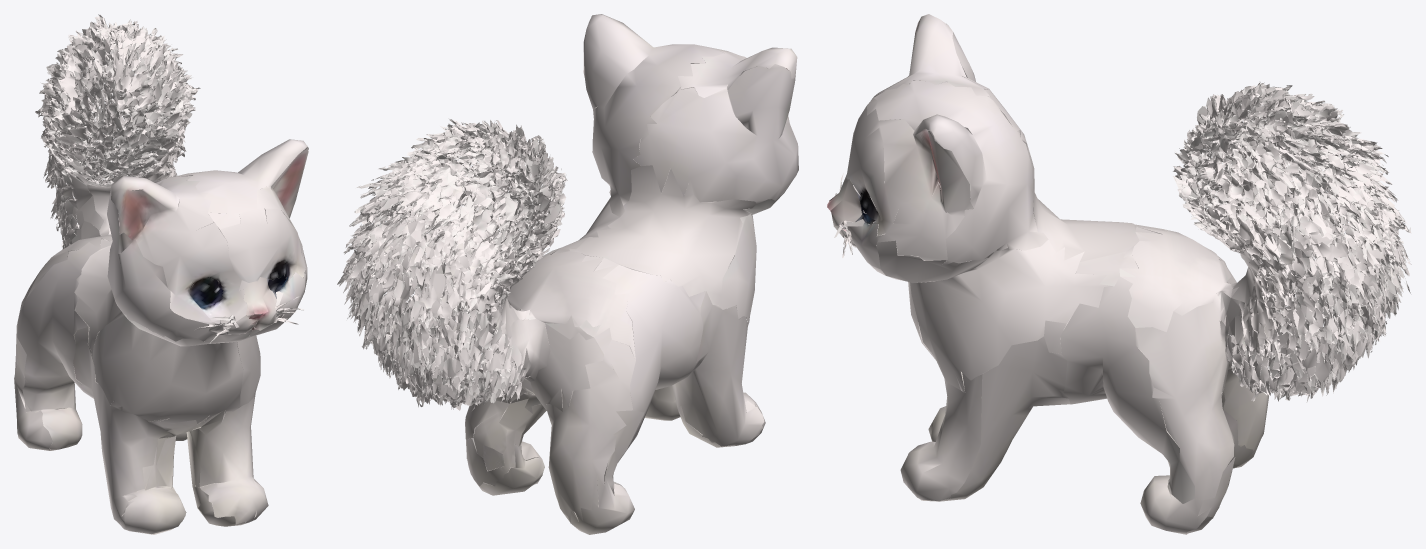
The model's file is meshy-angora.glb.
The picture shows the model from 3 angles, left to right: view 1: azimuth 30°, elevation 25°; view 2: azimuth 150°, elevation 25°; view 3: azimuth 270°, elevation 25°; orthographic projection. The views are drawn at different scales.
Visible parts, largest first — view 1: Mesh_0; view 2: Mesh_0; view 3: Mesh_0.
Part boxes in pixels (x1=…): Mesh_0: x1=14, y1=14, x2=308, y2=534; Mesh_0: x1=337, y1=14, x2=798, y2=534; Mesh_0: x1=827, y1=14, x2=1411, y2=534.
Bounding box in the file's own units: 1.02 × 1.5 × 1.85.
Materials: 1 (1 with a texture image).
